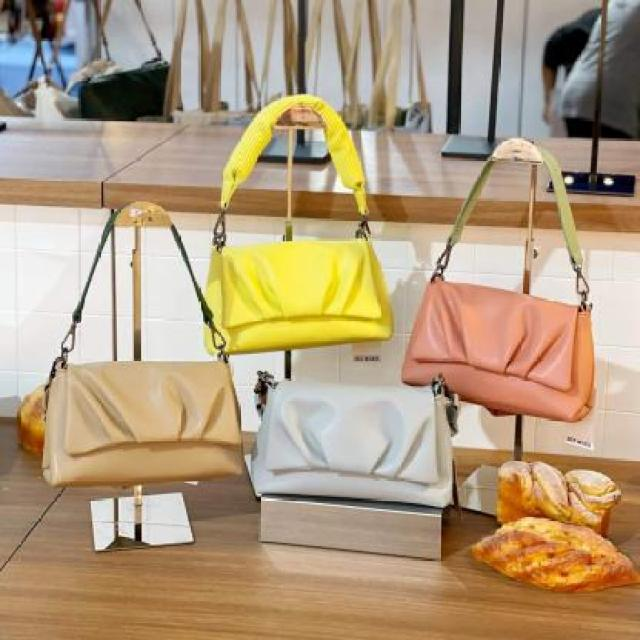Bag: (169, 74, 446, 375), (23, 175, 274, 507), (391, 112, 624, 423), (226, 356, 480, 542)
